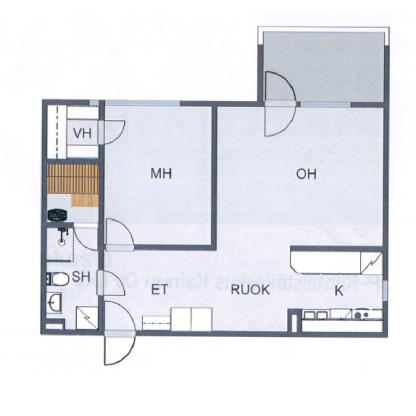door: (263, 70, 298, 138), (104, 301, 135, 367), (105, 217, 135, 255), (95, 270, 130, 299), (95, 119, 128, 146), (73, 221, 99, 253)
window: (88, 98, 180, 110), (301, 100, 351, 109)
zone: (103, 103, 383, 331), (104, 106, 211, 245), (264, 32, 385, 101), (47, 228, 99, 329), (47, 163, 99, 222), (47, 102, 97, 157)
